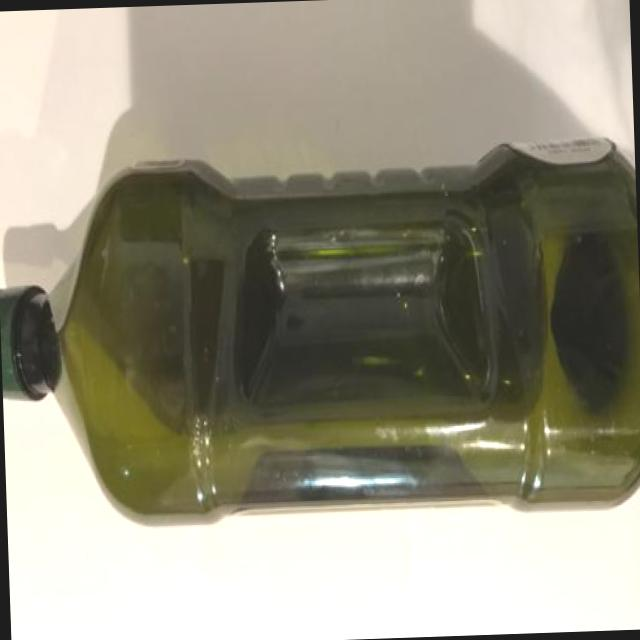Recycle: (0, 141, 640, 528)
